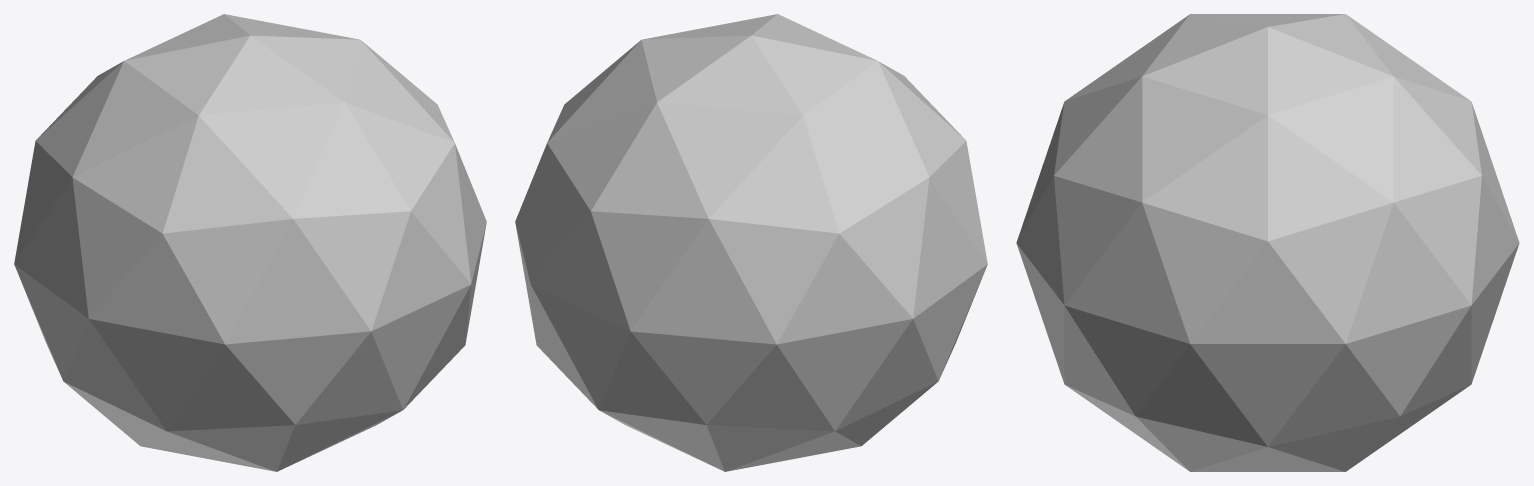
Rendered from Blazer_Sphere.fbx.
The picture shows the model from 3 angles, left to right: view 1: azimuth 30°, elevation 25°; view 2: azimuth 150°, elevation 25°; view 3: azimuth 270°, elevation 25°; orthographic projection. The views are drawn at different scales.
Visible parts, largest first — view 1: Blazer_Sphere; view 2: Blazer_Sphere; view 3: Blazer_Sphere.
Boxes of the visible parts, <box> form: Blazer_Sphere: <box>14,14,486,471</box>; Blazer_Sphere: <box>515,14,987,471</box>; Blazer_Sphere: <box>1016,14,1519,471</box>.
Size of the model in its own units: 18.06 by 17.99 by 18.99.
